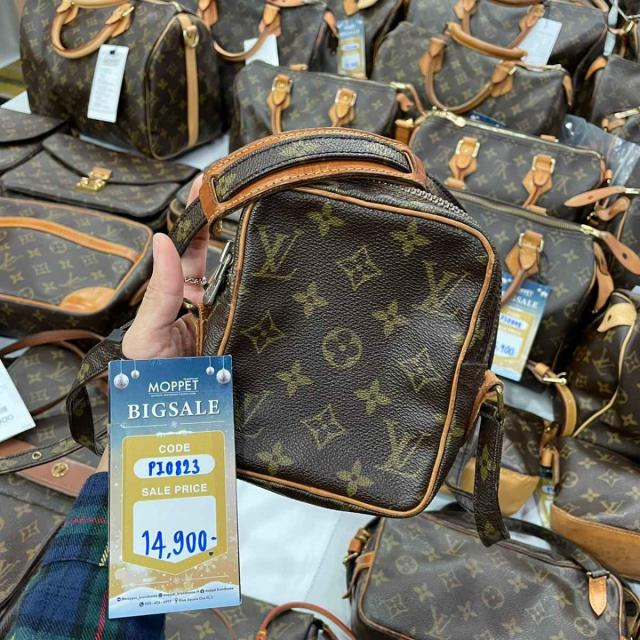handbag: (199, 129, 511, 525)
